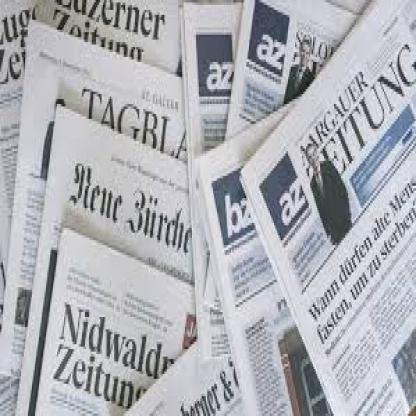paper: (0, 0, 178, 414), (238, 0, 415, 414), (0, 18, 185, 414), (13, 101, 189, 414), (193, 94, 332, 414), (32, 223, 196, 413), (177, 0, 246, 414), (223, 0, 360, 134), (106, 336, 245, 414)
